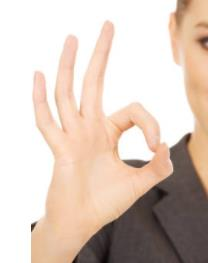left: (28, 21, 175, 219)
